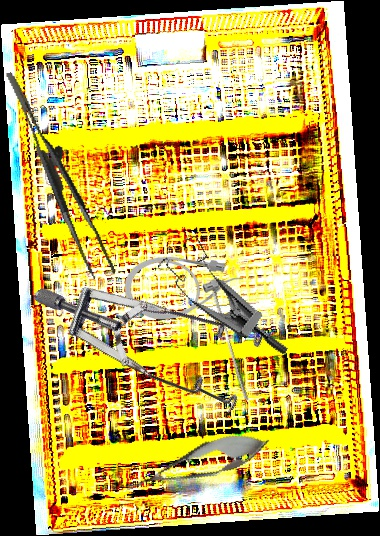Cannula: (125, 256, 243, 320)
Micro Scissor: (117, 421, 276, 507)
Pusher: (208, 291, 253, 401)
Speculum: (31, 194, 293, 466), (145, 227, 315, 356)
Tissue Forceps: (5, 59, 116, 287)
